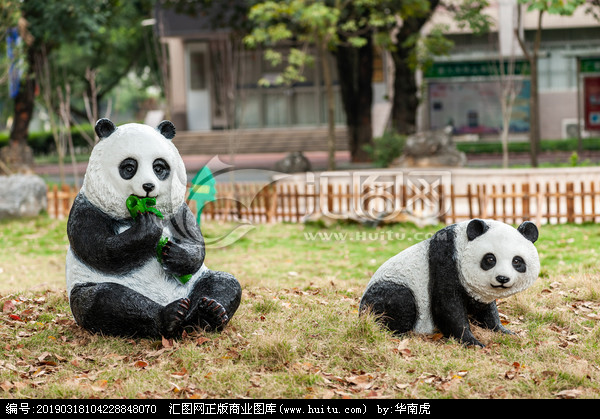panda: (64, 109, 247, 344), (349, 210, 547, 341)
